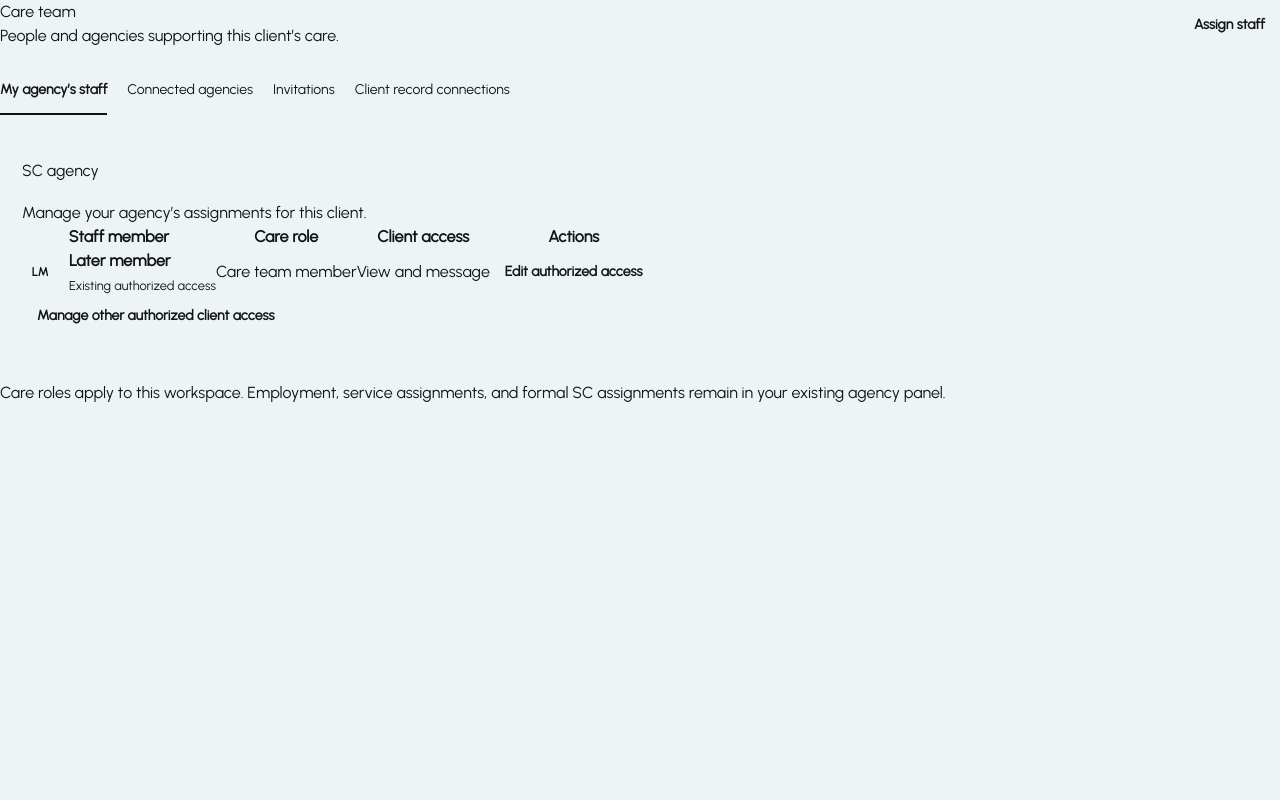
it: shows an existing grant member when they are outside the current candidate page
The image size is (1280, 800).
Click the button "Edit authorized access" at (574, 272), box [490, 251, 658, 293]
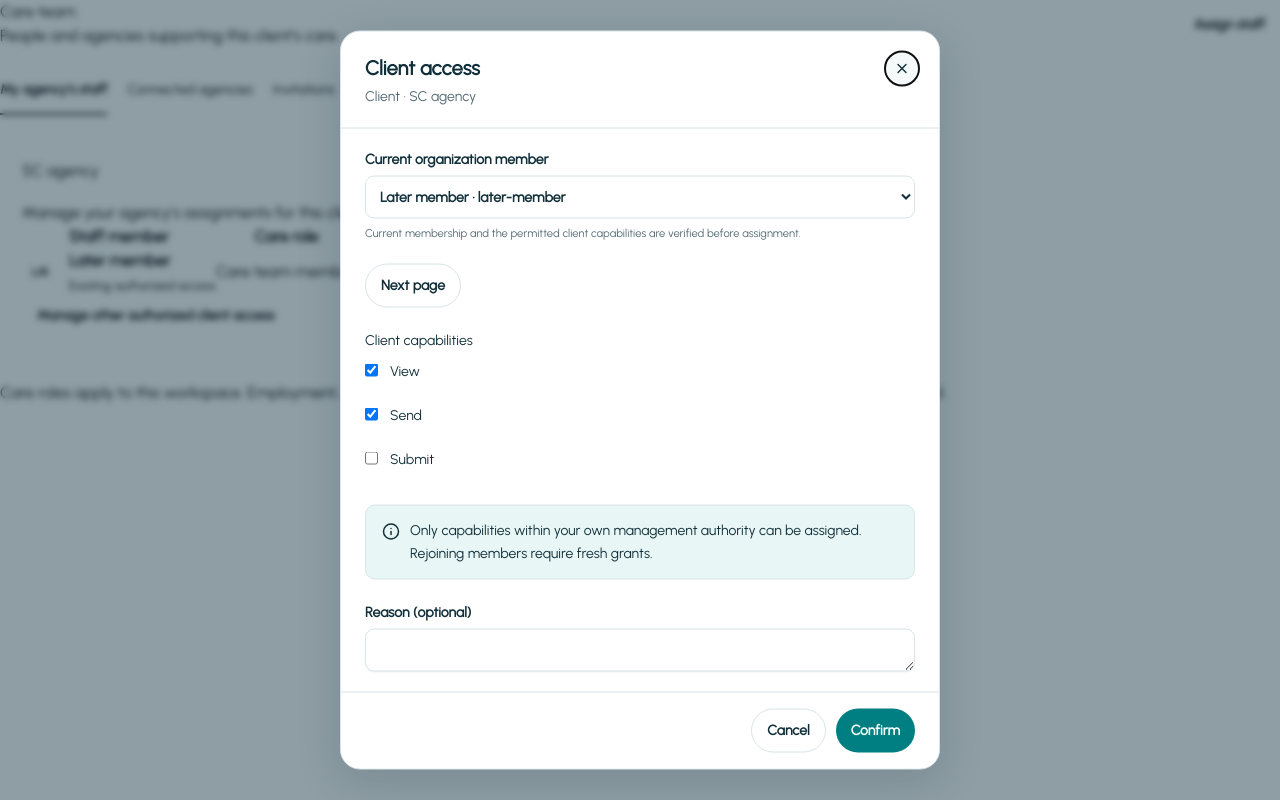
Check: the dropdown shows "Later member · later-member", box [365, 176, 915, 219]
Check: the dropdown is disabled, box [365, 176, 915, 219]
Check: the checkbox labelled "Send" is checked, box [365, 408, 378, 421]
